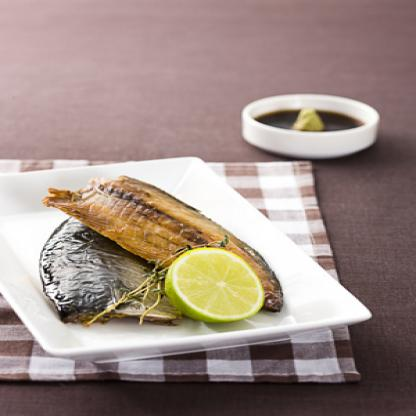Peixe: (29, 177, 265, 340)
